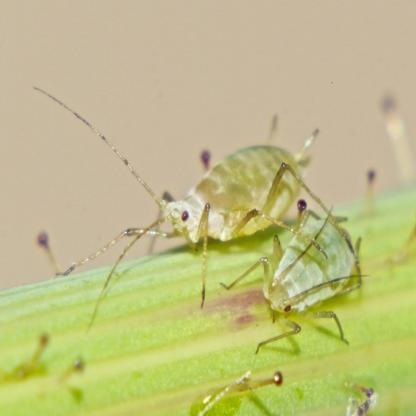aphid: (94, 80, 331, 258), (231, 177, 378, 336)
